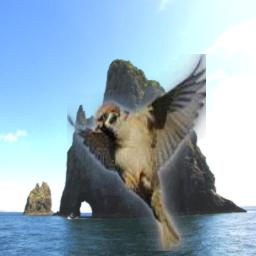Sparrow: (67, 54, 206, 251)
